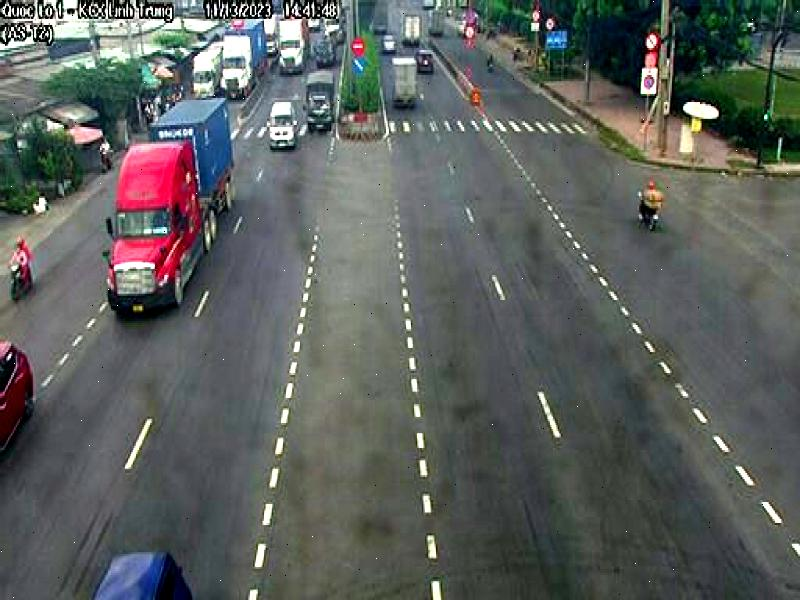truck: (106, 89, 234, 319)
